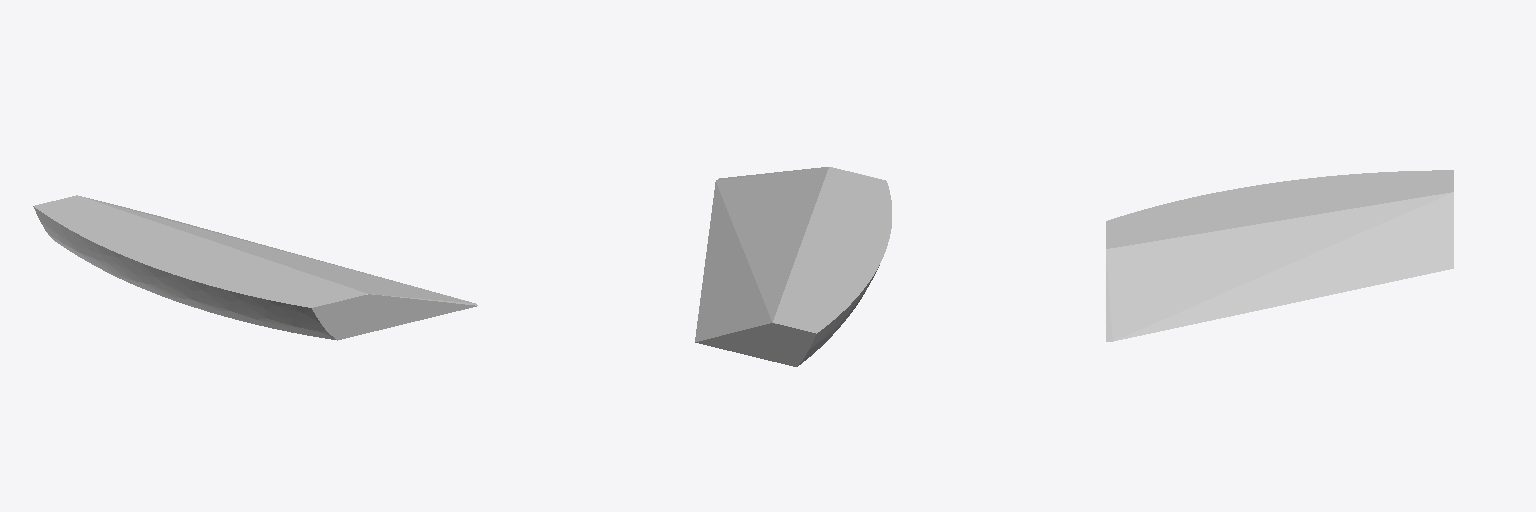
Rendered from skillet_collision_21.obj.
3 renders of one model, left to right at view 1: azimuth 30°, elevation 25°; view 2: azimuth 150°, elevation 25°; view 3: azimuth 270°, elevation 25°, orthographic.
Size of the model in its own units: 0.0509 by 0.0069 by 0.0565.